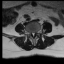CCS_normal: (32, 30, 34, 39)
LFS_severe_stenosis: (35, 29, 36, 35)
LLS_stenosis: (33, 30, 35, 36)
RFS_stenosis: (29, 30, 31, 35)
RLS_stenosis: (31, 30, 32, 36)
